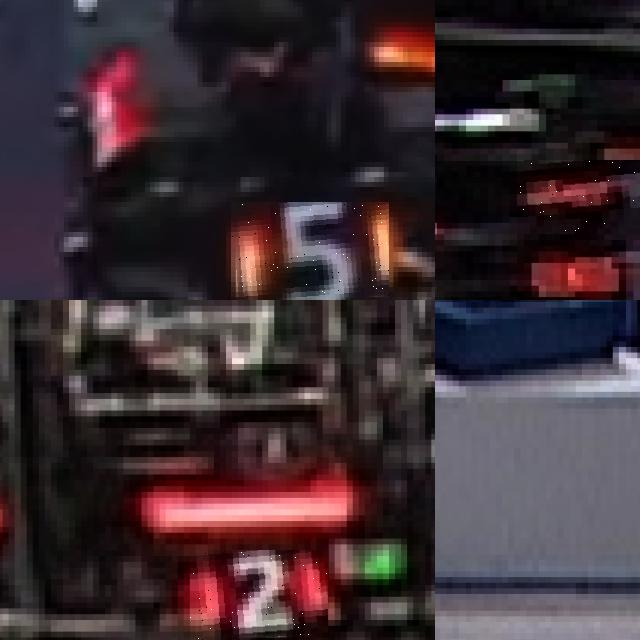R1: (517, 159, 640, 234), (524, 231, 640, 300)
R2: (189, 550, 328, 640)
R5: (231, 202, 388, 300)
